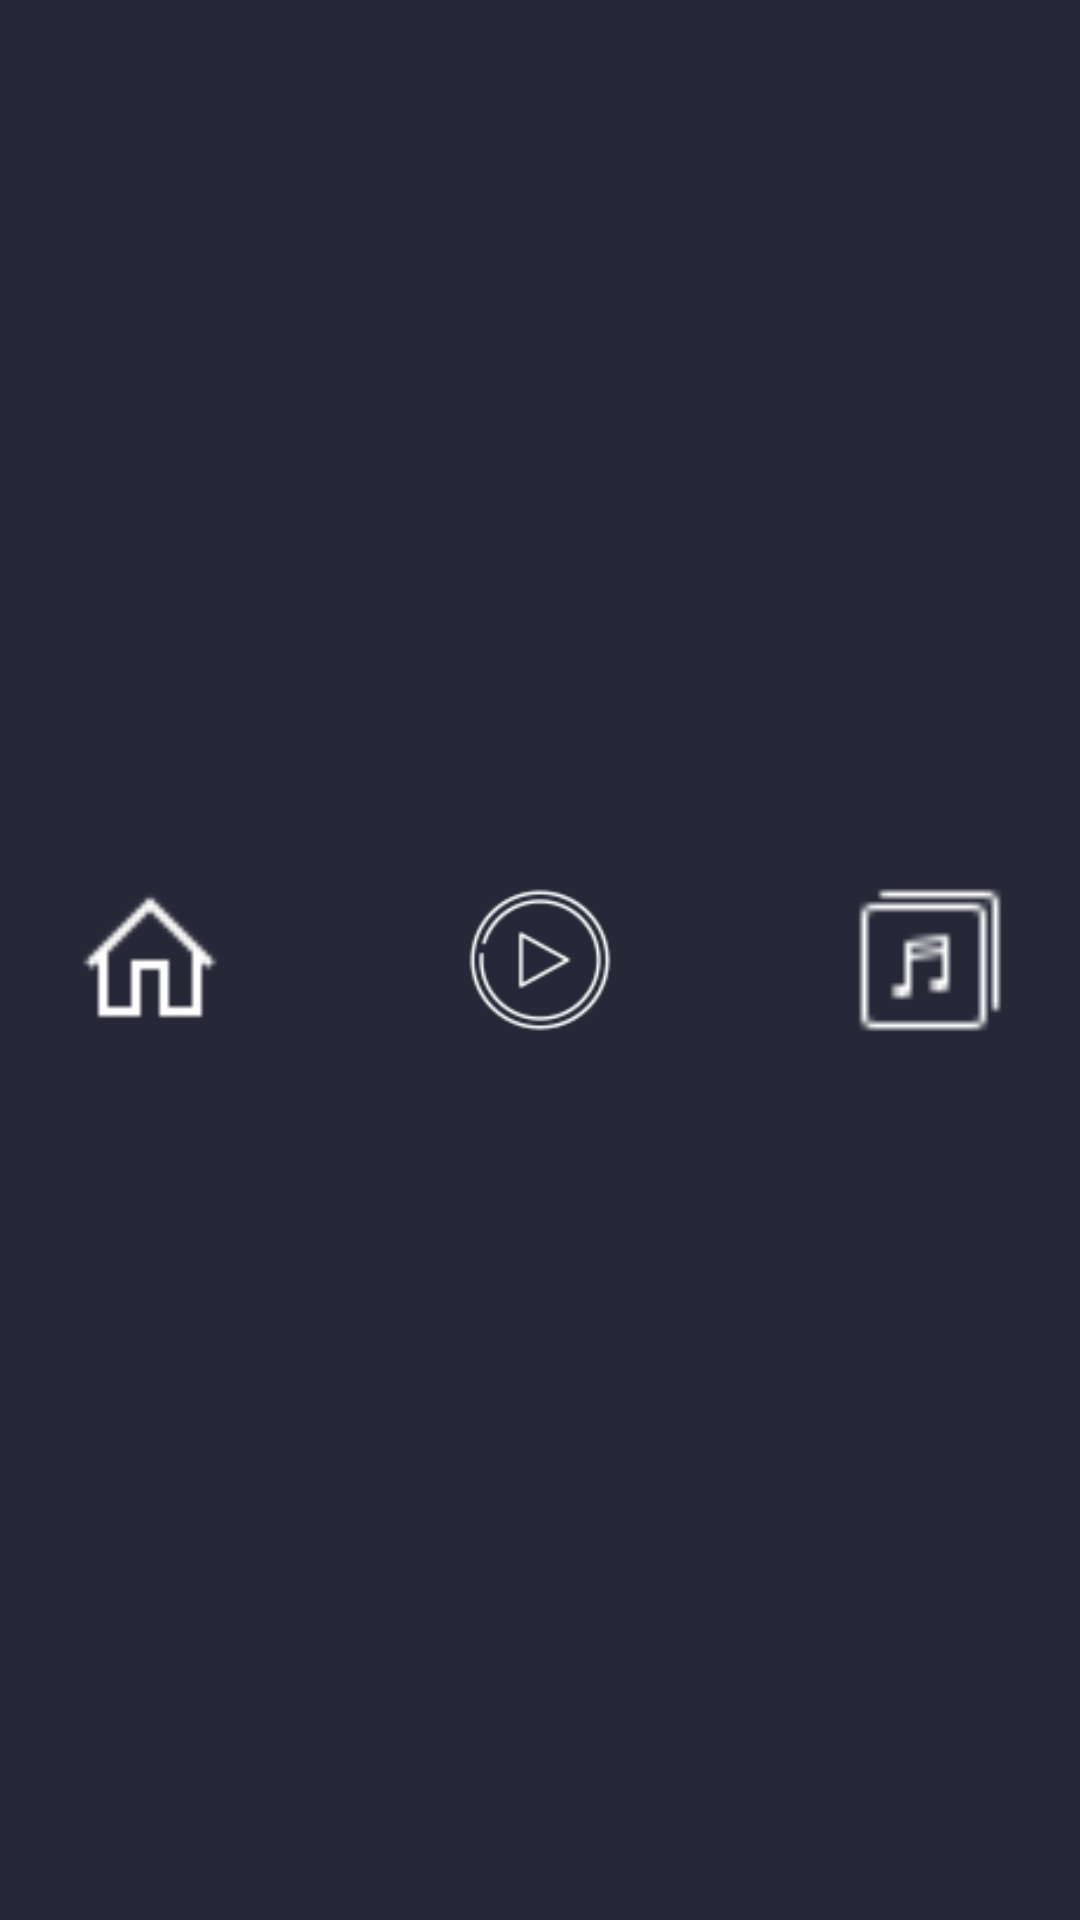

Point at icon controls on the screen. Image size 1080px×1920px, points as point (x, y).
album: point (930, 960)
home: point (150, 957)
play: point (540, 960)
